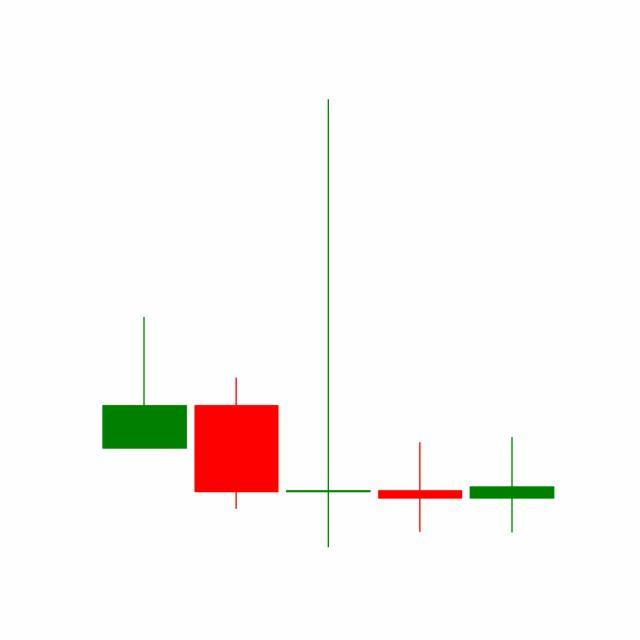Spinning Top: (374, 441, 468, 534)
